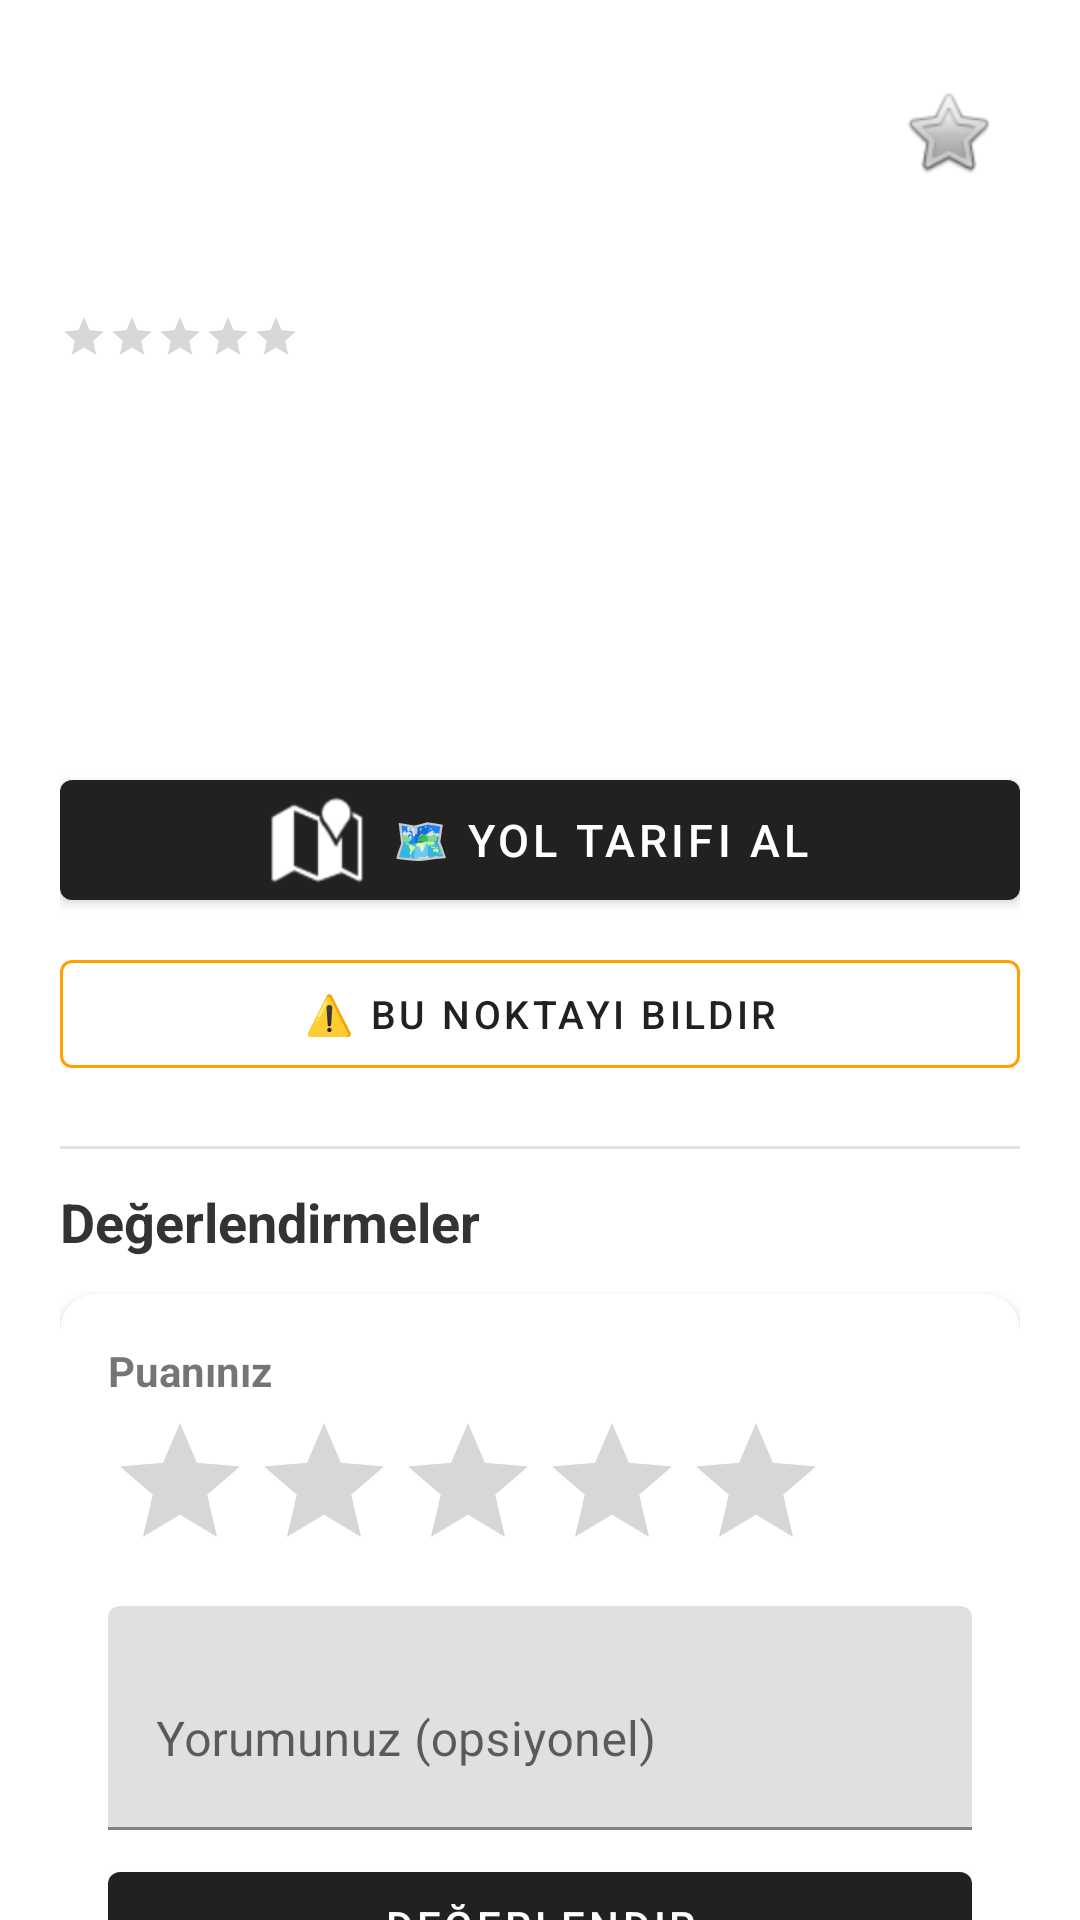

Screen size 1080 × 1920. Icon name, then its box in pixels as Rect(x1, y1, x2, y2):
Favoriye Ekle: Rect(909, 94, 989, 172)
